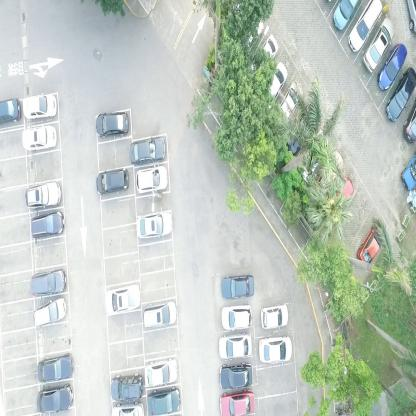car: (362, 14, 394, 73), (347, 0, 383, 51), (384, 67, 416, 123), (376, 39, 407, 93), (286, 109, 316, 157), (301, 131, 329, 179), (250, 34, 278, 82), (317, 151, 343, 201), (104, 282, 140, 318), (356, 223, 385, 267), (36, 383, 74, 414), (24, 179, 62, 209), (143, 298, 177, 331), (277, 84, 300, 132), (145, 355, 178, 388), (96, 165, 128, 199), (136, 210, 172, 240), (37, 352, 73, 382), (31, 209, 67, 239), (135, 163, 168, 195), (110, 372, 144, 403), (34, 297, 68, 328), (262, 64, 287, 106), (22, 123, 57, 153), (31, 267, 67, 296), (147, 386, 181, 416), (129, 136, 165, 164), (23, 90, 57, 119), (257, 337, 293, 364), (329, 179, 353, 219), (95, 110, 129, 138), (218, 391, 255, 416), (218, 362, 253, 388), (218, 333, 252, 359), (331, 0, 360, 30), (220, 304, 253, 328), (221, 276, 255, 298), (401, 98, 416, 145), (401, 151, 416, 192), (260, 305, 289, 326), (0, 96, 20, 124), (111, 401, 144, 415)
